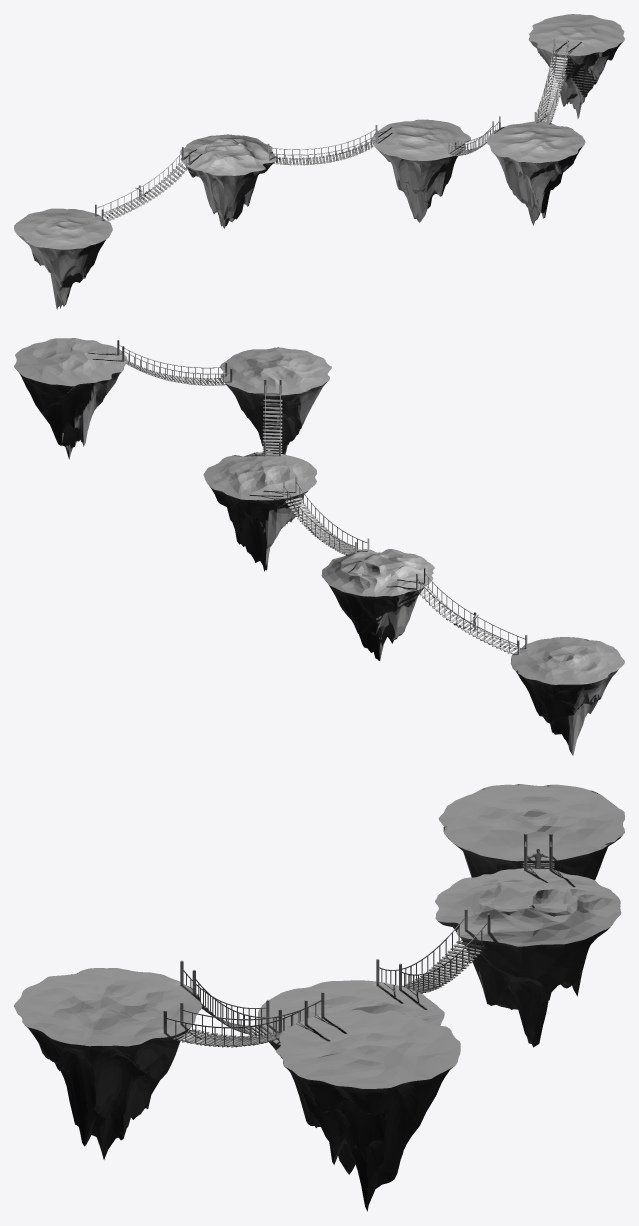
Rendered from DG_ISLANDS_B3.glb.
3 views of the same model, one above another, from view 1: azimuth 30°, elevation 25°; view 2: azimuth 150°, elevation 25°; view 3: azimuth 270°, elevation 25° (orthographic). The views are drawn at different scales.
Visible parts, largest first — view 1: Landscape.004, Landscape.003, Landscape.002, Landscape.005, Landscape.001, Bridge.003, Bridge.001, Bridge, Bridge.002; view 2: Landscape.005, Landscape.002, Landscape.003, Landscape.001, Landscape.004, Bridge, Bridge.001, Bridge.003, Bridge.002; view 3: Landscape.005, Landscape.004, Landscape.001, Landscape.002, Landscape.003, Bridge.001, Bridge.003, Bridge.002.
Part boxes in pixels (box(x1,y1,x2,y2)): Landscape.004: box(486, 121, 585, 225); Landscape.003: box(372, 119, 470, 222); Landscape.002: box(14, 208, 112, 309); Landscape.005: box(528, 14, 624, 118); Landscape.001: box(180, 134, 276, 228); Bridge.003: box(534, 38, 568, 124); Bridge.001: box(267, 125, 378, 165); Bridge: box(95, 147, 190, 221); Bridge.002: box(448, 116, 500, 156); Landscape.005: box(14, 338, 127, 459); Landscape.002: box(510, 637, 624, 755); Landscape.003: box(203, 452, 316, 571); Landscape.001: box(321, 549, 434, 660); Landscape.004: box(220, 347, 331, 454); Bridge: box(416, 568, 527, 654); Bridge.001: box(283, 477, 369, 555); Bridge.003: box(117, 340, 232, 385); Bridge.002: box(262, 379, 282, 456); Landscape.005: box(276, 1009, 460, 1211); Landscape.004: box(14, 968, 202, 1159); Landscape.001: box(435, 868, 621, 1047); Landscape.002: box(438, 784, 624, 879); Landscape.003: box(257, 980, 444, 1174); Bridge.001: box(376, 909, 490, 993); Bridge.003: box(163, 991, 324, 1047); Bridge.002: box(180, 960, 281, 1036).
Bounding box in the file's own units: 168 × 59.06 × 83.92.
10 materials, 10 textured.
